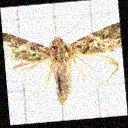Spodoptera litura: (5, 17, 123, 104)
